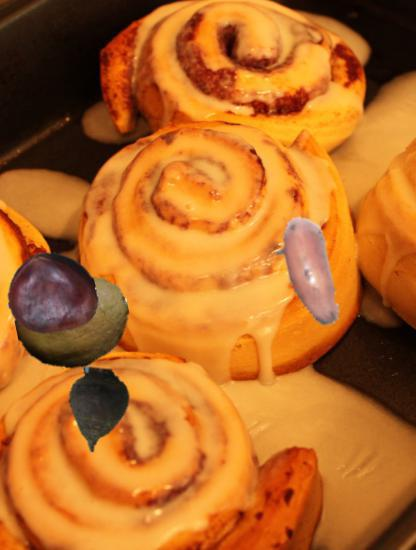Banana: (249, 215, 365, 331)
Beetroot: (52, 366, 144, 458)
Chestnut: (6, 248, 97, 339)
Papaya: (16, 264, 130, 378)
